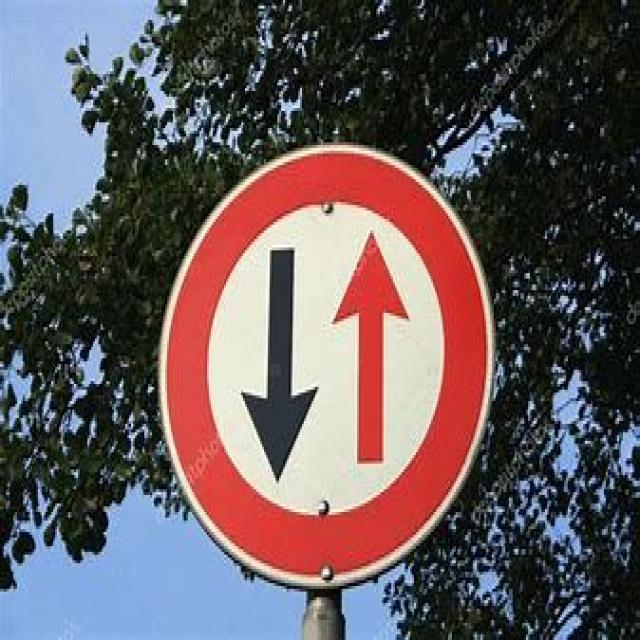PRIORITY_FOR_ONCOMING_VEHICLES: (155, 142, 496, 583)
